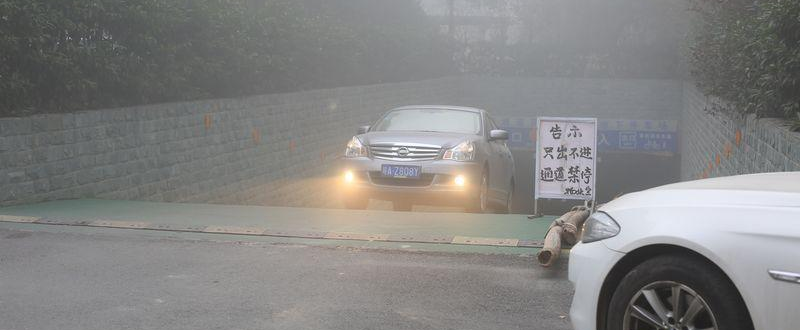car: (567, 168, 800, 329), (338, 103, 518, 218)
